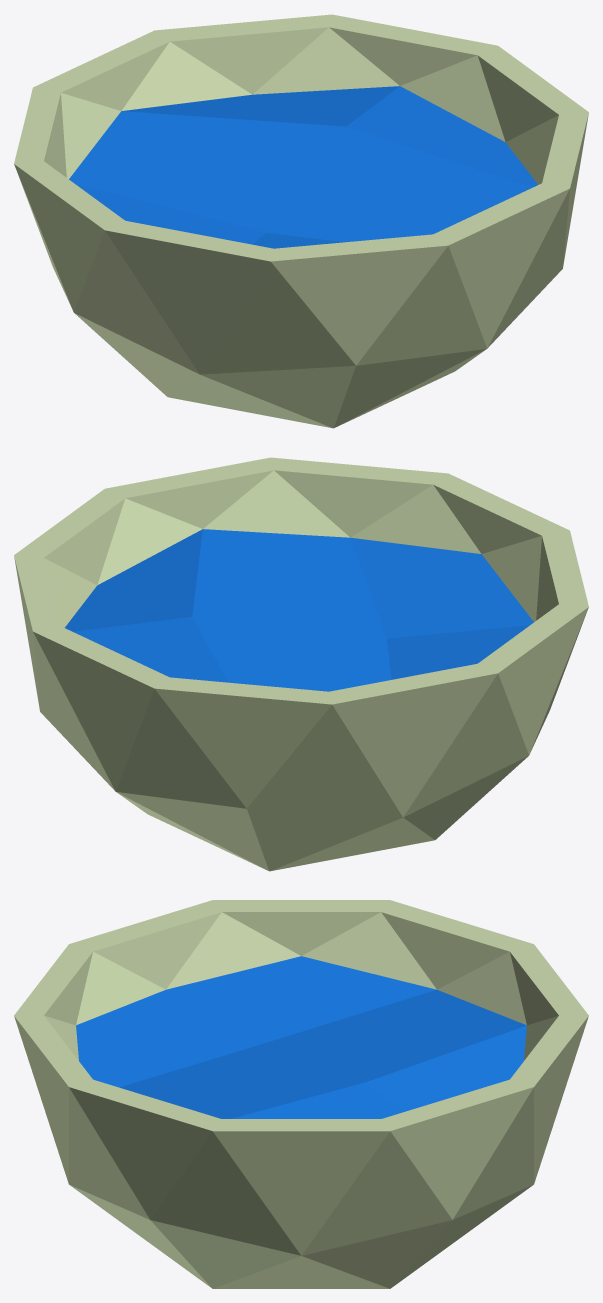
Rendered from UniversalWater.fbx.
The picture shows the model from 3 angles, top to bottom: view 1: azimuth 30°, elevation 25°; view 2: azimuth 150°, elevation 25°; view 3: azimuth 270°, elevation 25°; orthographic projection. The views are drawn at different scales.
Visible parts, largest first — view 1: UniversalWater; view 2: UniversalWater; view 3: UniversalWater.
Boxes of the visible parts, x1,y1,x2,y2 form: UniversalWater: [14, 14, 588, 428]; UniversalWater: [14, 457, 588, 871]; UniversalWater: [14, 900, 588, 1288].
Bounding box in the file's own units: 43.03 × 45.25 × 19.24.
